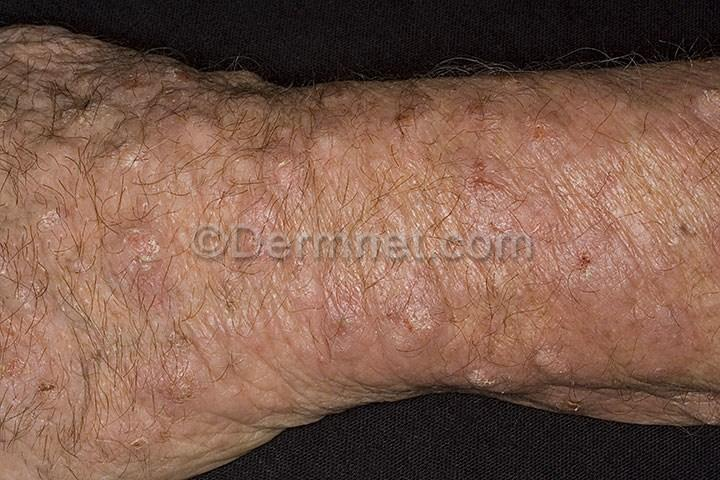Eczema: (275, 255, 554, 406), (41, 268, 276, 443), (335, 84, 568, 233), (0, 51, 166, 258), (552, 259, 720, 422), (571, 76, 720, 253), (161, 88, 325, 225), (0, 258, 43, 460)
